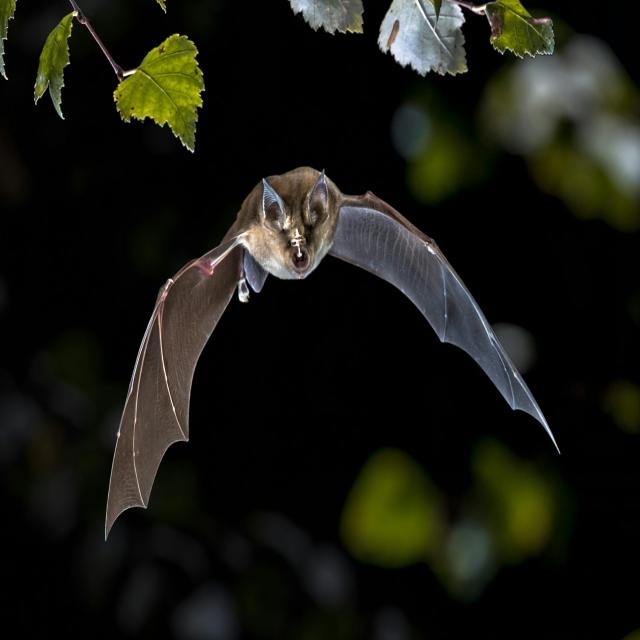Bat: (95, 154, 569, 555)
